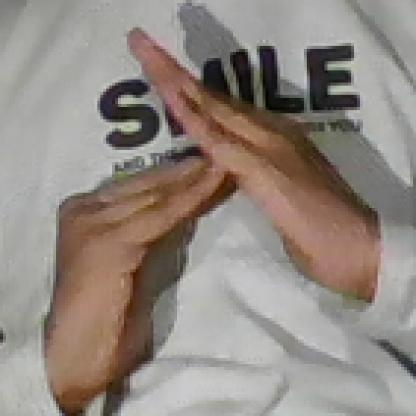Z: (49, 29, 322, 363)
